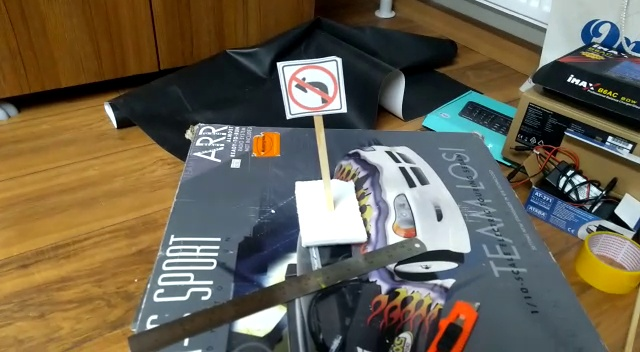sola_donulmez: (287, 61, 339, 114)
